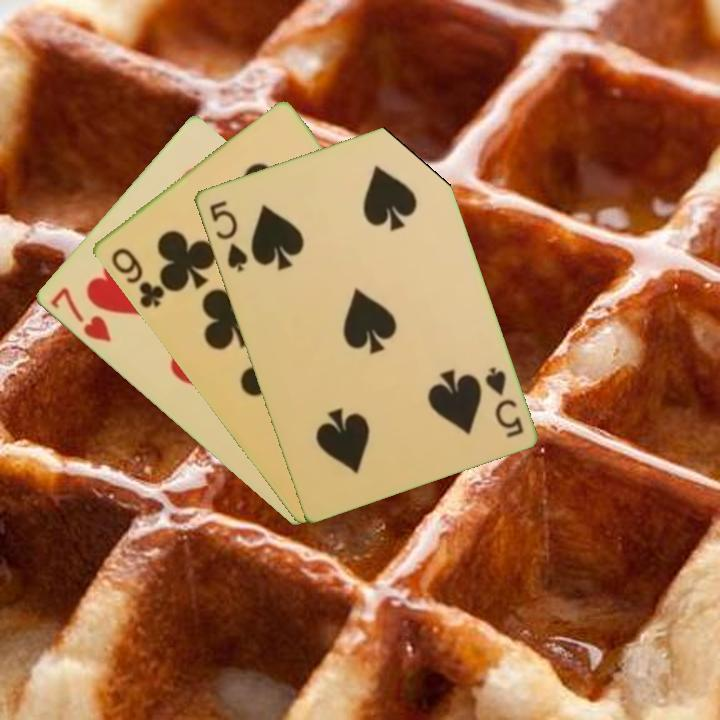5s: (480, 363, 526, 441), (205, 196, 250, 275)
7h: (46, 284, 113, 345)
9c: (107, 244, 167, 311)
